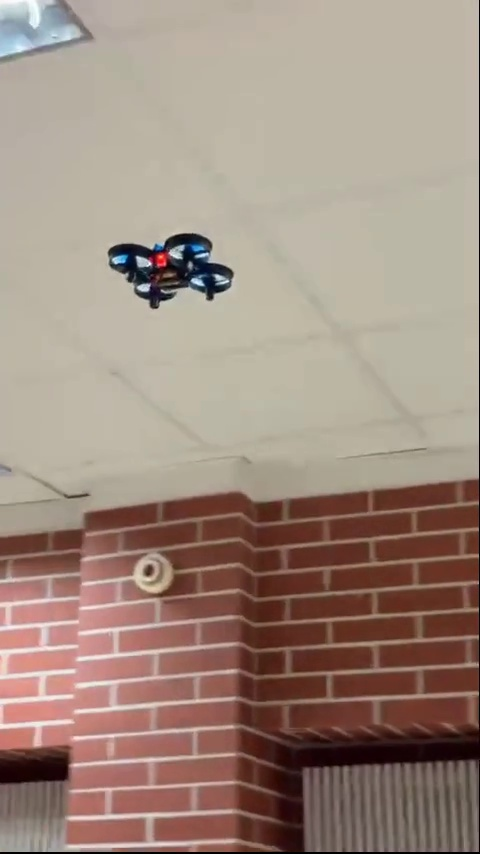drone: (109, 231, 238, 305)
